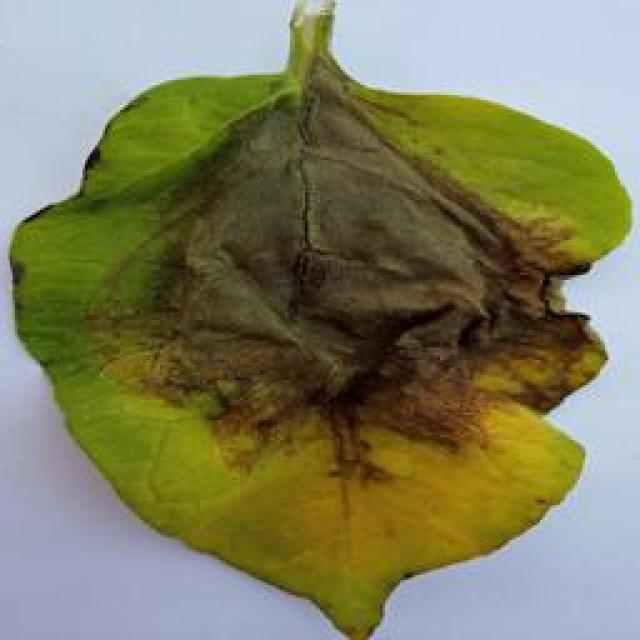Potato_Late_Blight: (9, 9, 620, 639)
